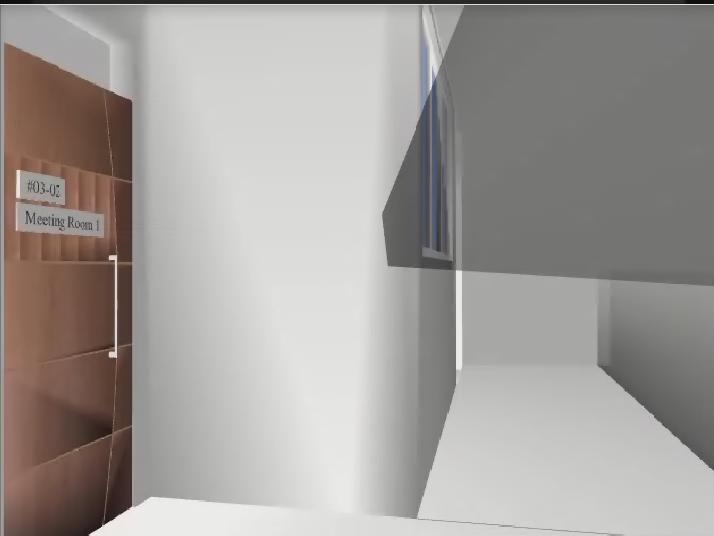door: (4, 42, 132, 536)
